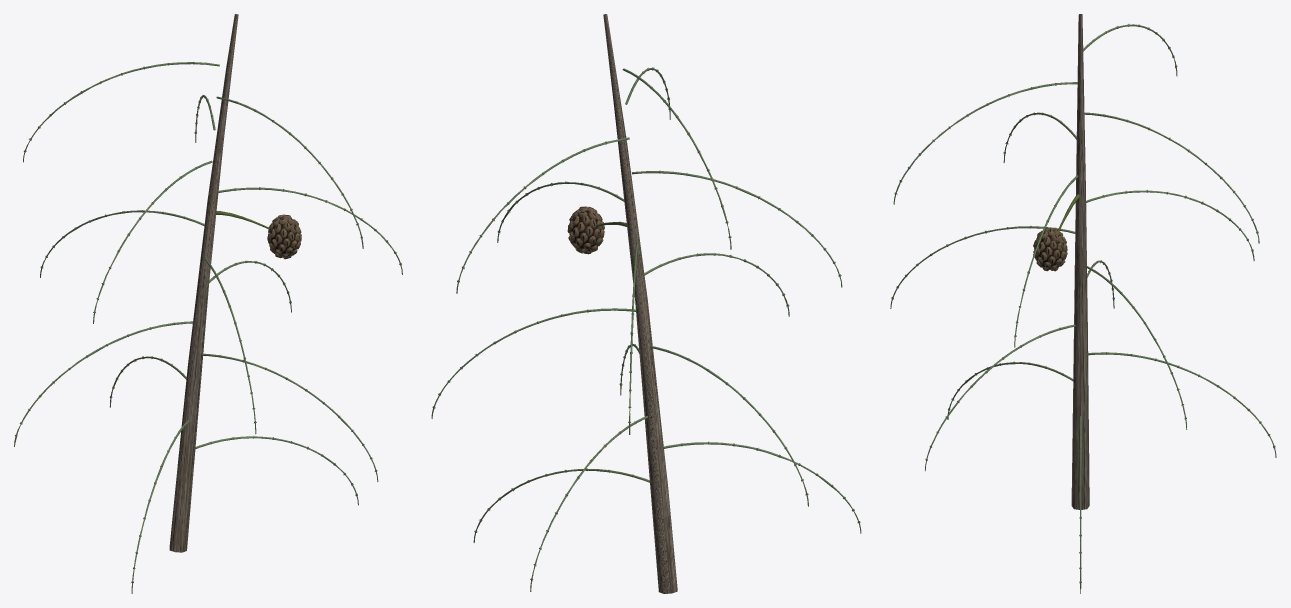
File: casuarina-macro-lite.glb
The picture shows the model from 3 angles, left to right: view 1: azimuth 30°, elevation 25°; view 2: azimuth 150°, elevation 25°; view 3: azimuth 270°, elevation 25°; orthographic projection. The views are drawn at different scales.
Visible parts, largest first — view 1: bark, branchlets, cone-scales, nodes; view 2: bark, branchlets, cone-scales, nodes; view 3: bark, branchlets, cone-scales, nodes.
Part boxes in pixels (x1,y1,x2,y2): bark: (169,14,238,552); branchlets: (14,62,402,593); cone-scales: (267,214,301,259); nodes: (15,62,401,582); bark: (603,14,677,593); branchlets: (431,68,861,591); cone-scales: (567,206,604,254); nodes: (432,67,859,580); bark: (1071,14,1089,509); branchlets: (890,24,1276,593); cone-scales: (1033,227,1067,271); nodes: (891,24,1275,582).
Size of the model in its own units: 0.2591 by 0.3807 by 0.2559.
4 materials, 3 textured.
